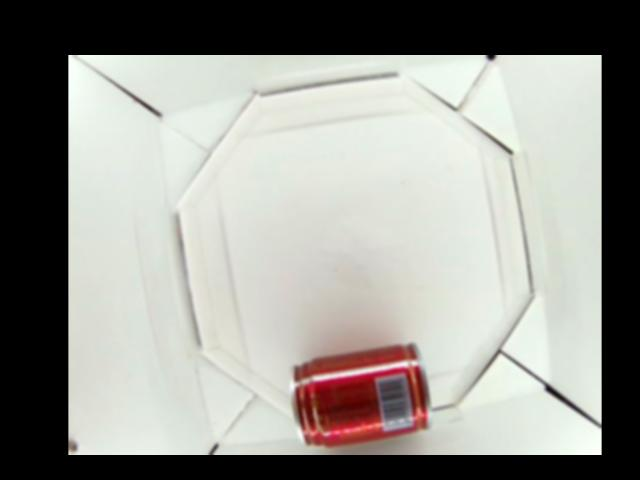Bottle: (294, 343, 432, 448)
